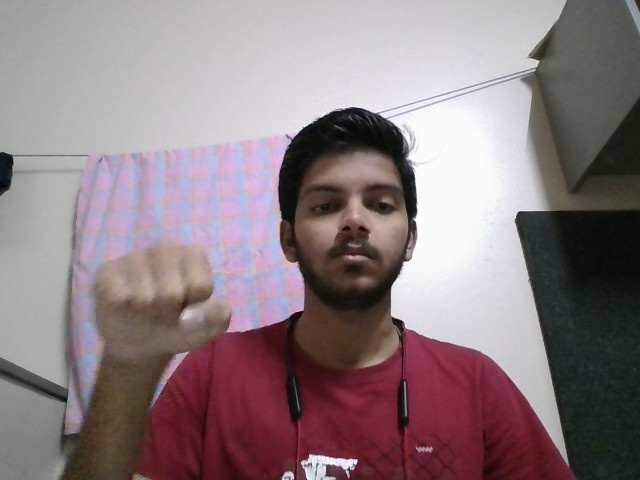No: (68, 244, 264, 368)
